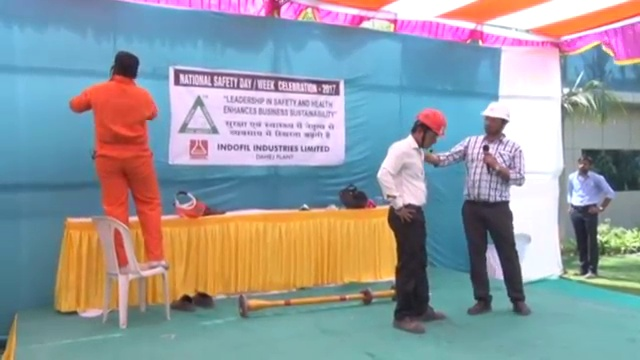helmet: (416, 107, 449, 137), (479, 100, 514, 124)
helmet_off: (109, 48, 142, 83), (576, 153, 590, 176)
helmet_on: (410, 107, 449, 152), (477, 100, 515, 143)
person: (68, 49, 173, 272), (425, 100, 532, 317), (373, 107, 448, 336), (566, 153, 614, 282)
